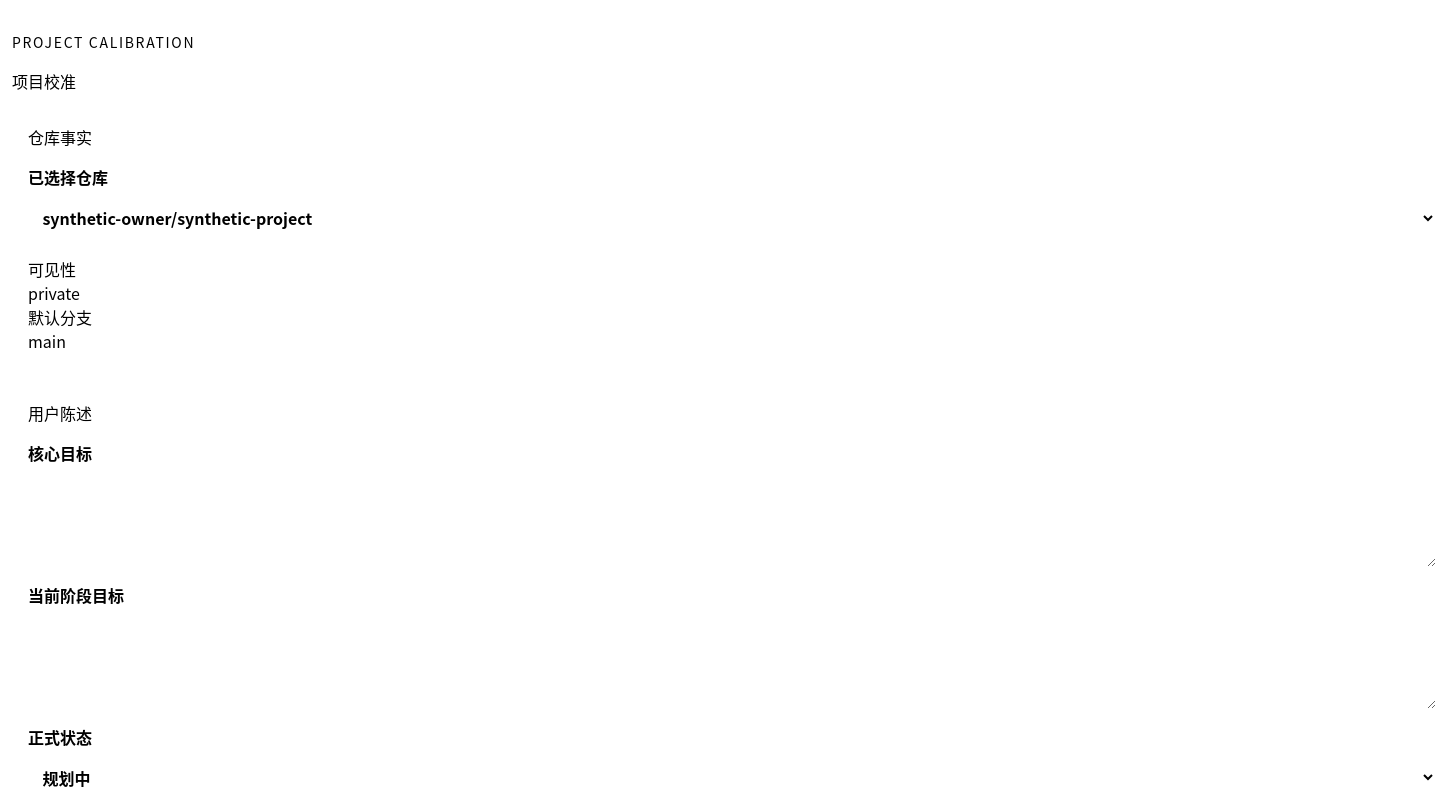
Test: ProjectCalibrationPanel › separates repository facts from statements and saves one strict calibration
Type "Ship a trustworthy MVP" into the text box labelled "核心目标" at (732, 519), box [28, 471, 1436, 567]
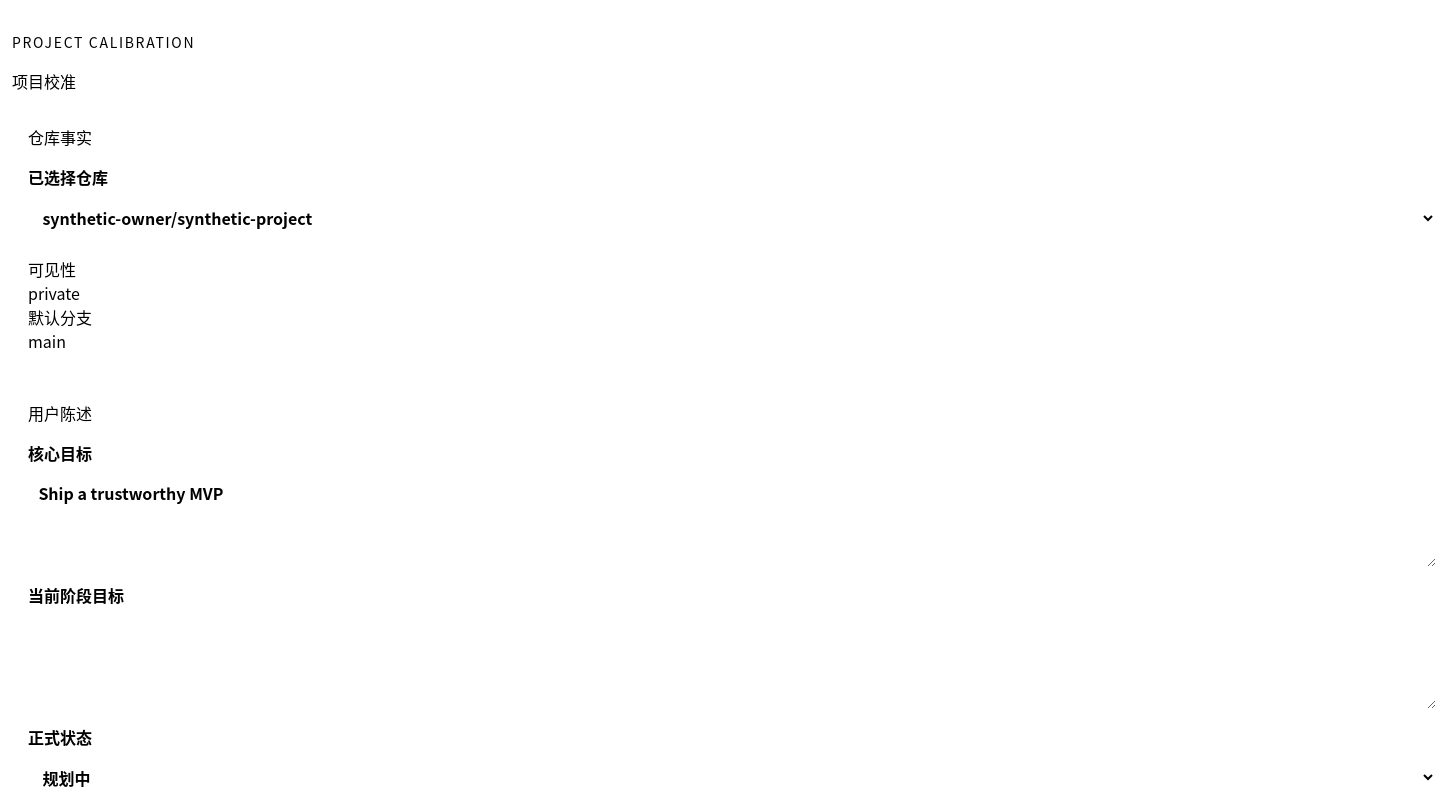
Type "Calibrate the first project" into the text box labelled "当前阶段目标" at (732, 661), box [28, 613, 1436, 709]
(page scrolled)
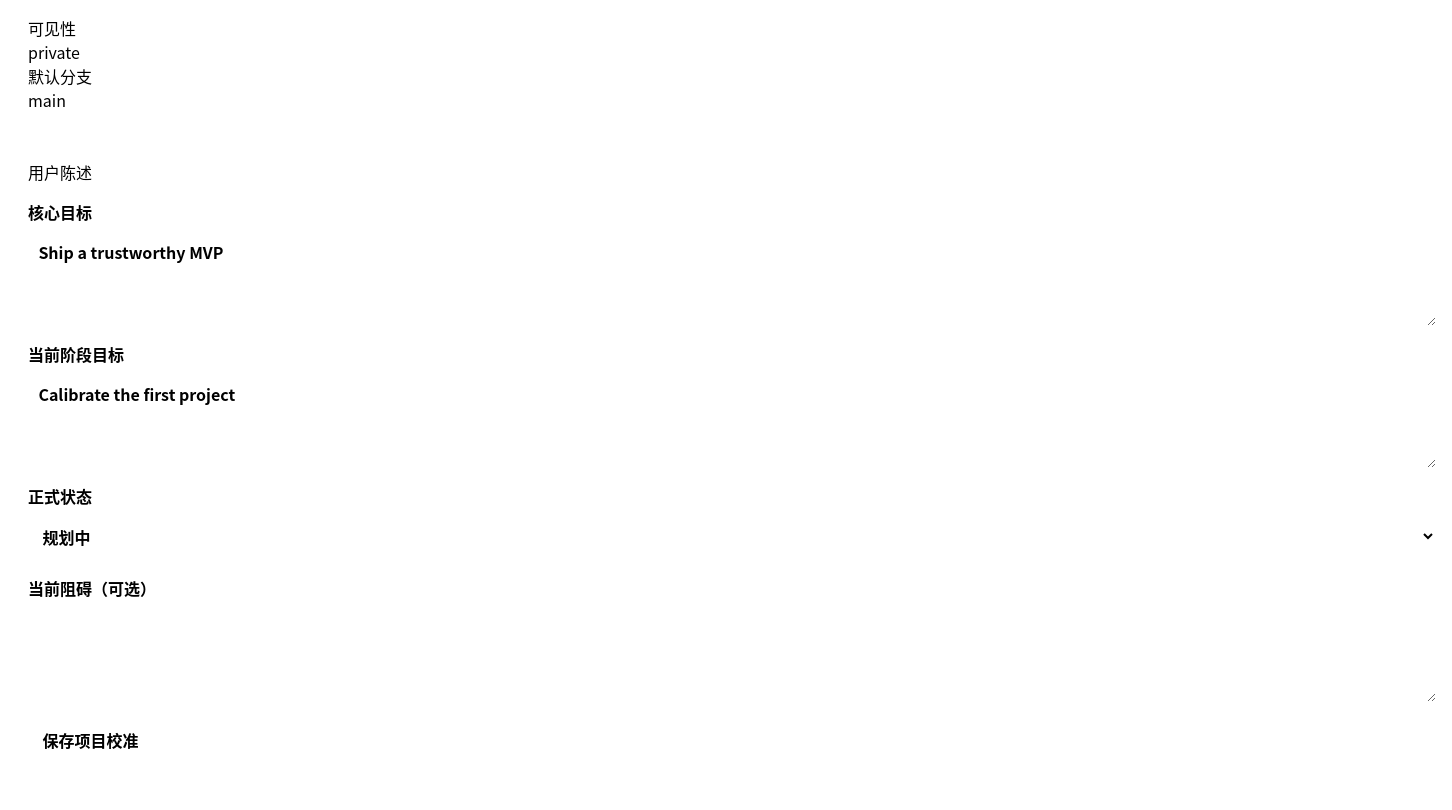
Click the button "保存项目校准" at (90, 740), box [28, 718, 153, 762]
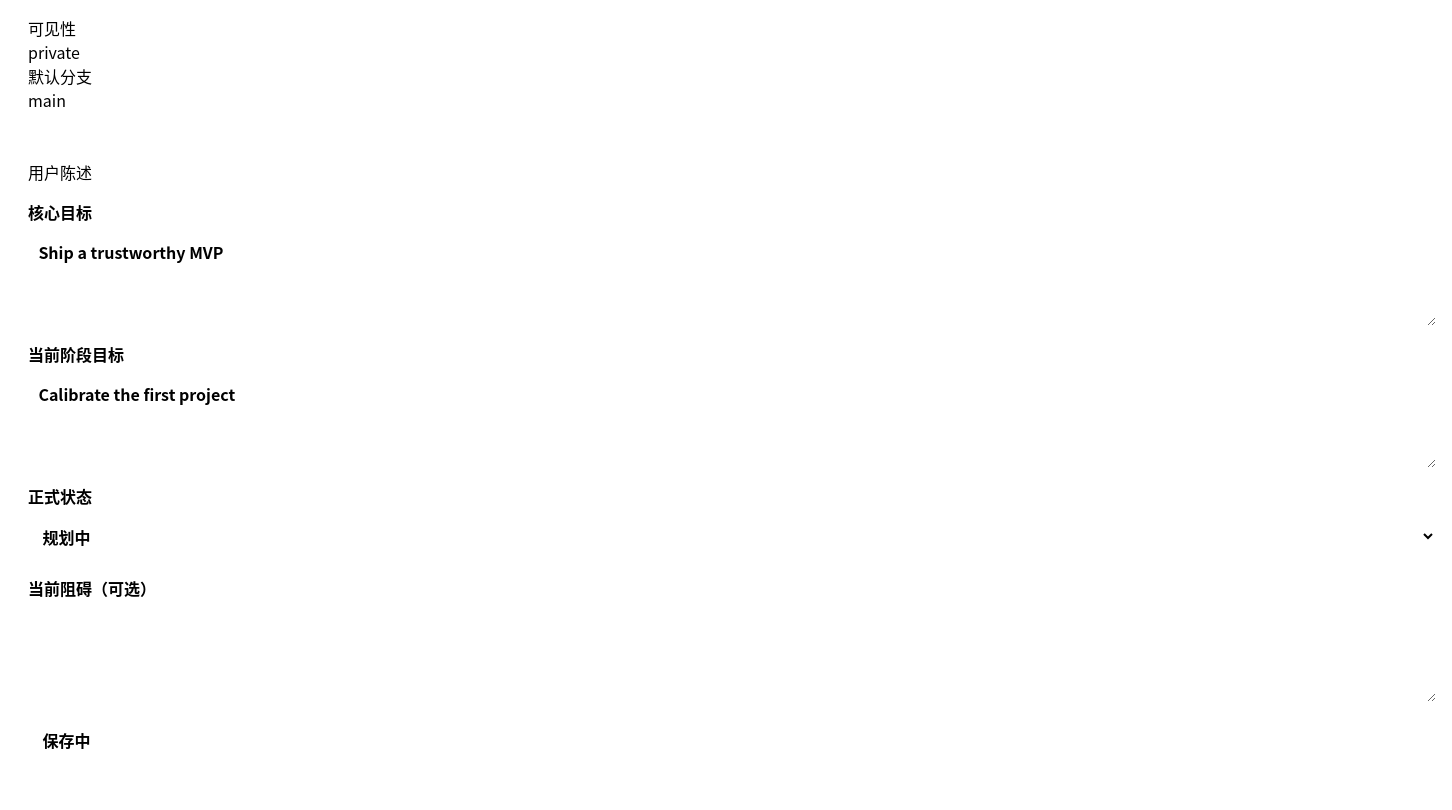
Check: the button "保存中" is disabled
Click the button "保存中" at (66, 740), box [28, 718, 105, 762]
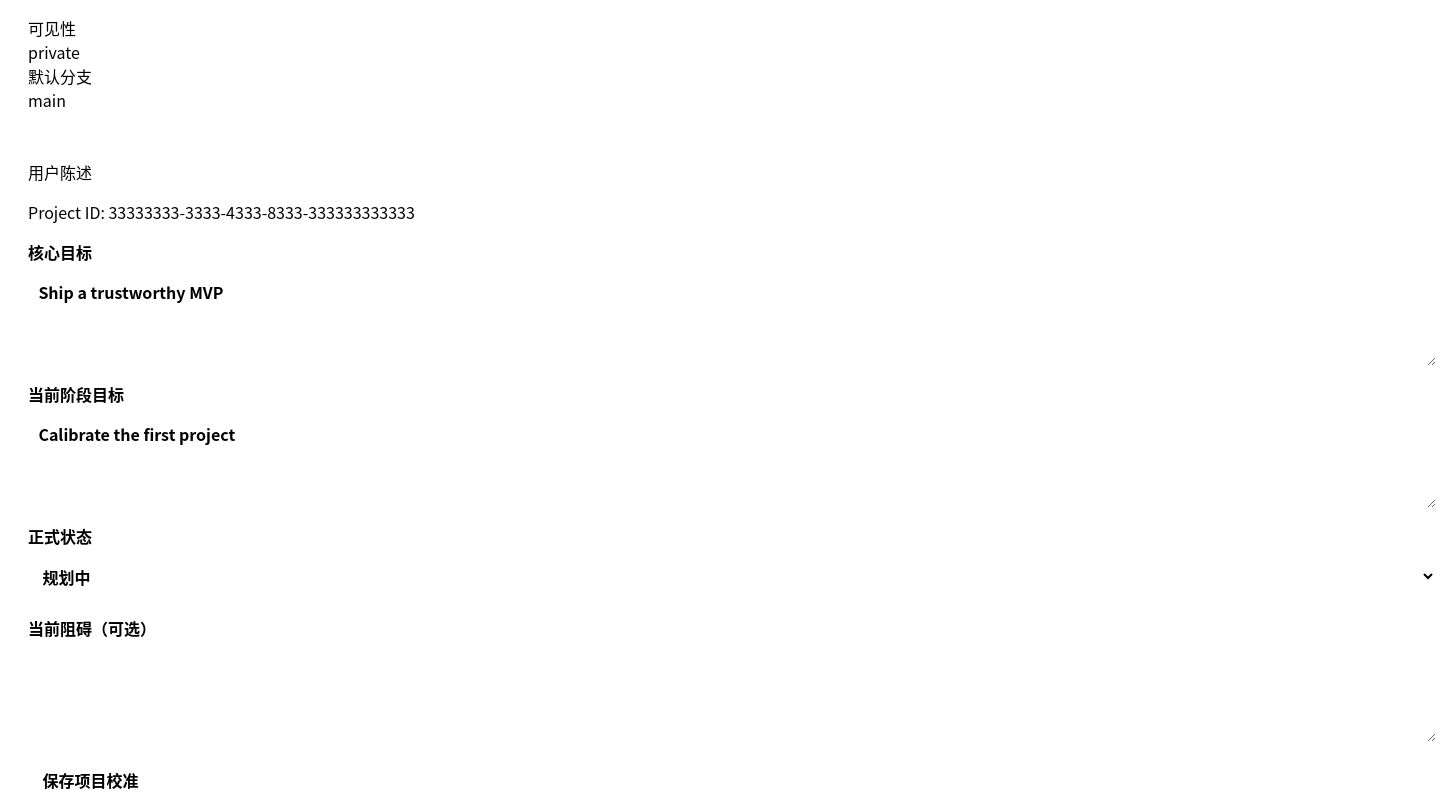
Check: the text with test id "project-stable-id" reads "Project ID: 33333333-3333-4333-8333-333333333333", box [28, 200, 415, 224]
